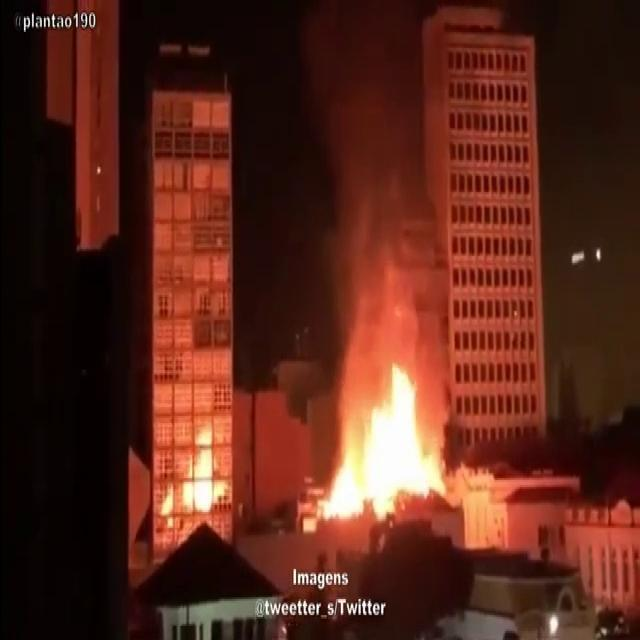Fire: (364, 368, 446, 508), (320, 436, 364, 521)
Smoke: (291, 5, 414, 194)
